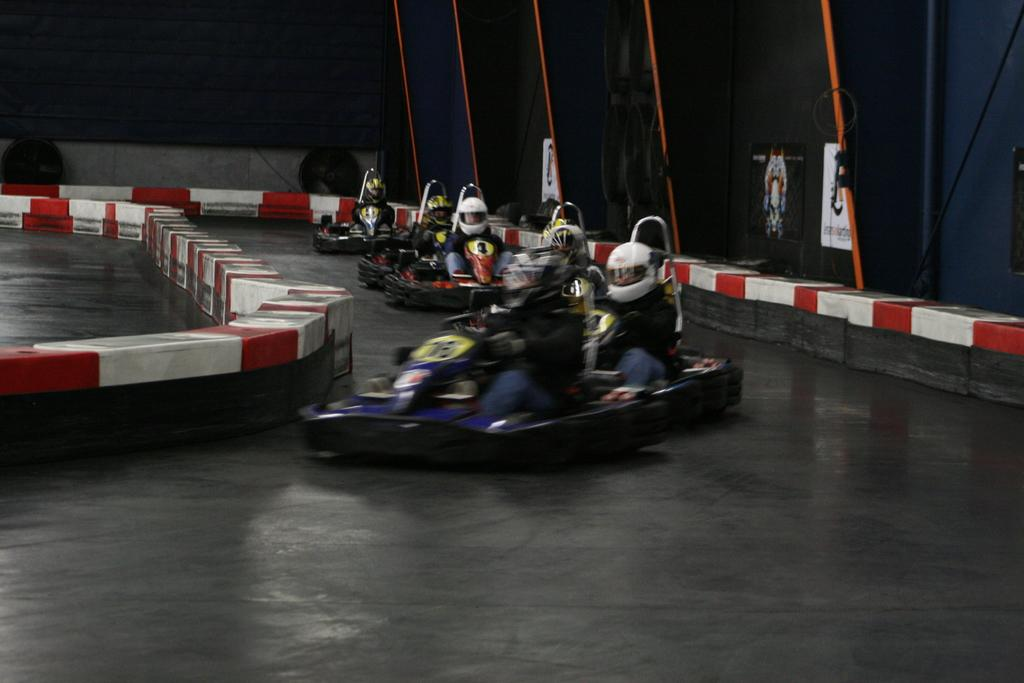helmet: (501, 246, 569, 309), (605, 241, 658, 303), (542, 225, 587, 268), (458, 197, 488, 236), (426, 195, 453, 226), (365, 178, 386, 204)
